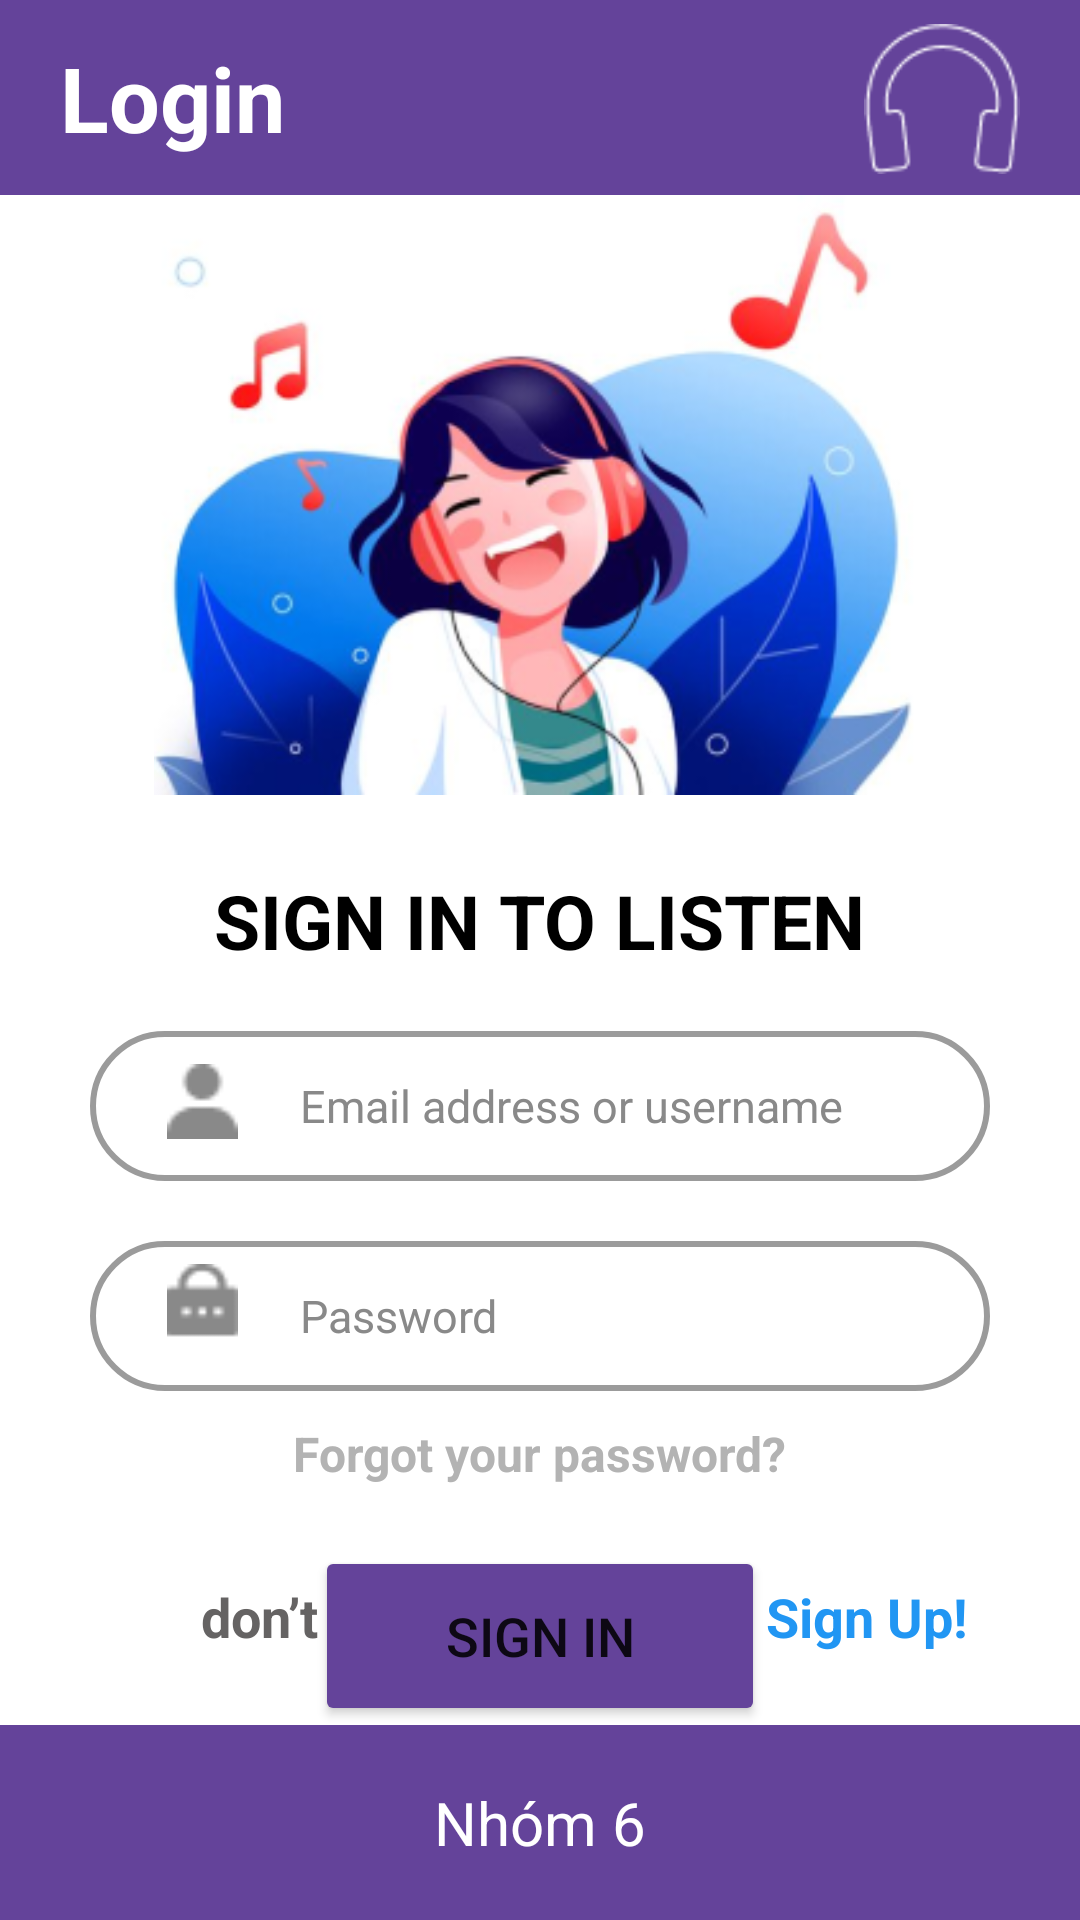

Named icons in this screenshot (1080px×1920px) and their bounding boxes, [x1,y1,x2,y2]:
human: [167,1064,238,1139]
khoa: [167,1264,238,1336]
tai nghe: [864,24,1018,174]
